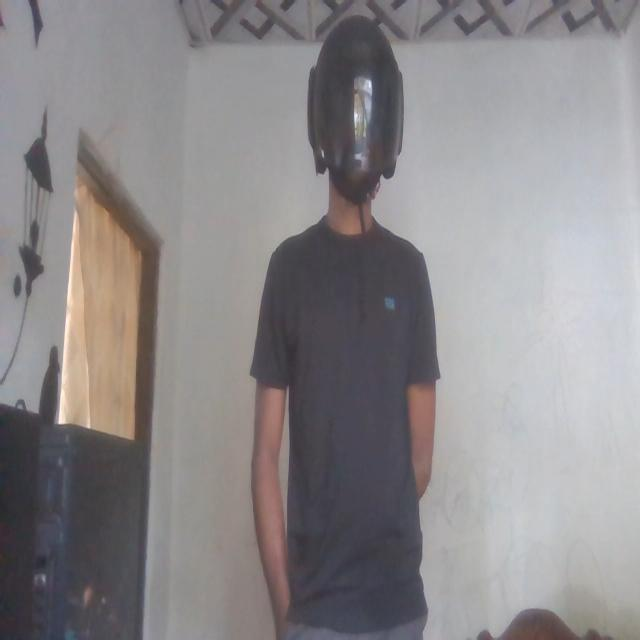Helmet_Wearer: (304, 11, 408, 265)
Person: (251, 0, 443, 640)
